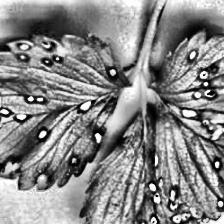Leaf Spot: (0, 31, 134, 192), (144, 26, 224, 224), (76, 107, 204, 224)
